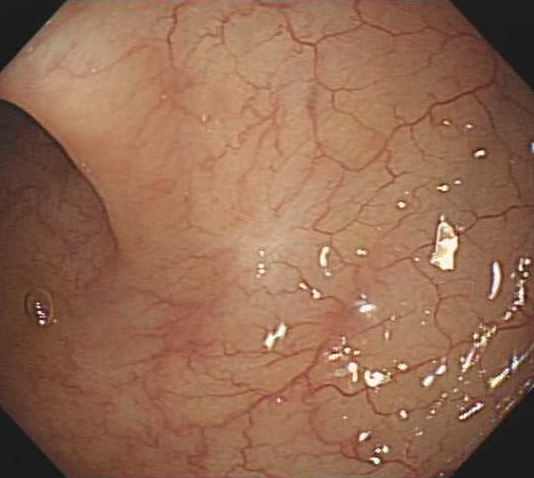others: (230, 224, 290, 279)
